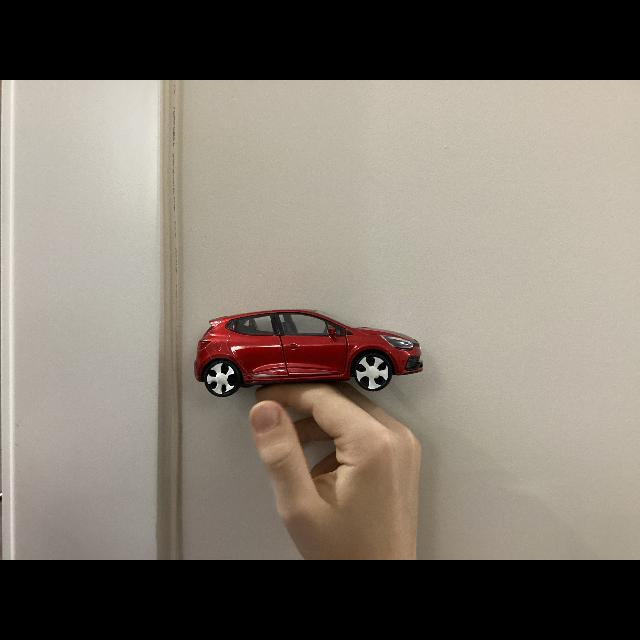Yanlis_Jant: (357, 356, 389, 389), (207, 364, 237, 394)
